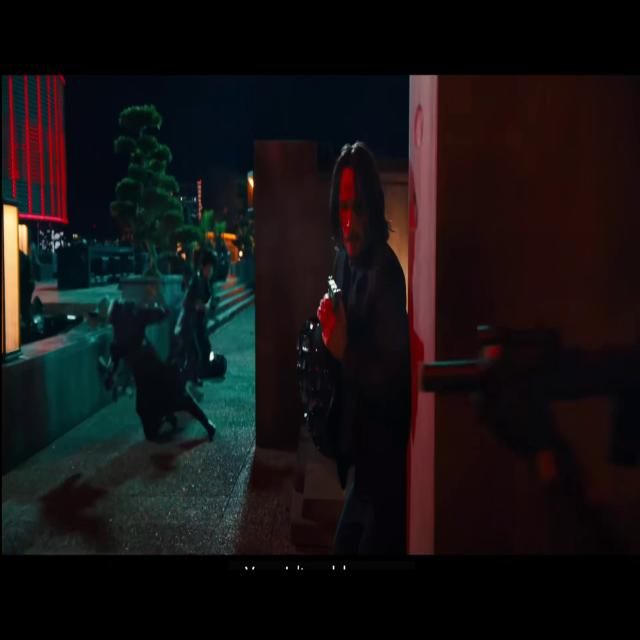weapons: (314, 249, 355, 352)
